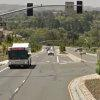Bus: (4, 40, 39, 70)
